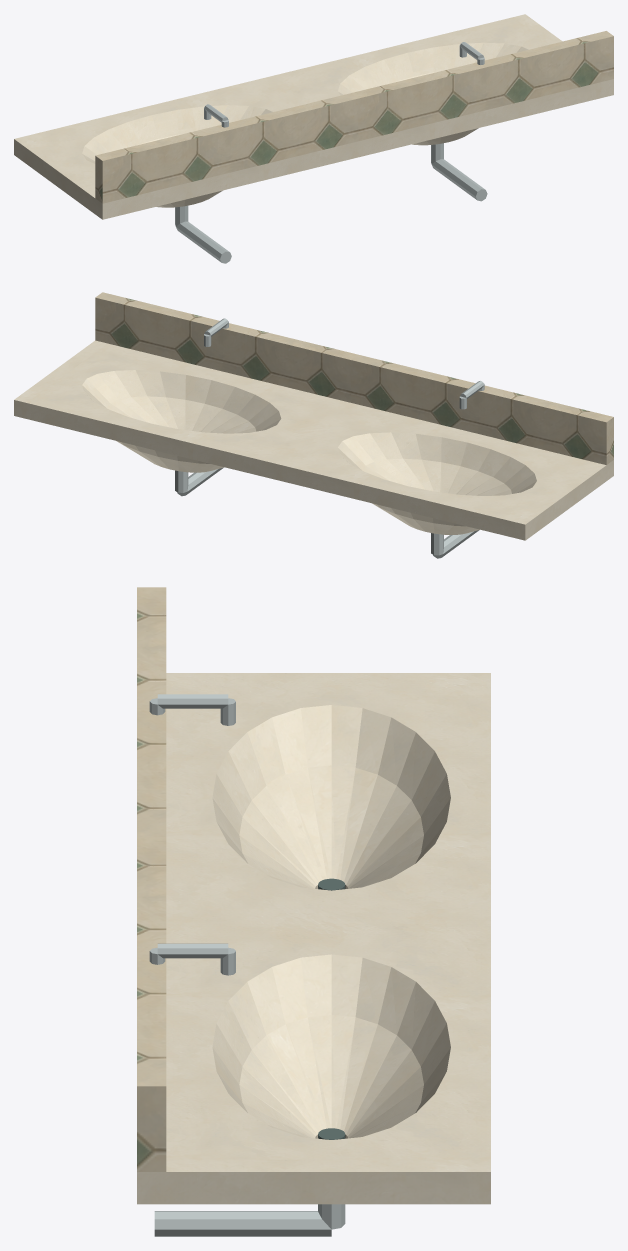
The model's file is bath-sink-double.gltf.
3 renders of one model, top to bottom at view 1: azimuth 30°, elevation 25°; view 2: azimuth 150°, elevation 25°; view 3: azimuth 270°, elevation 25°, orthographic. The views are drawn at different scales.
Parts seen in each view (by area): view 1: fixture-tile, counter-ceramic, fixture-ceramic, structure-metal, fittings-metal; view 2: counter-ceramic, fixture-tile, fixture-ceramic, structure-metal, fittings-metal; view 3: counter-ceramic, fixture-ceramic, fixture-tile, structure-metal, fittings-metal.
Boxes of the visible parts, x1,y1,x2,y2 form: fixture-tile: (95, 31, 613, 203); counter-ceramic: (14, 14, 613, 219); fixture-ceramic: (74, 39, 533, 207); structure-metal: (175, 143, 487, 263); fittings-metal: (204, 42, 484, 127); counter-ceramic: (14, 340, 613, 540); fixture-tile: (95, 292, 613, 464); fixture-ceramic: (74, 366, 544, 534); structure-metal: (175, 467, 479, 558); fittings-metal: (204, 318, 484, 409); counter-ceramic: (137, 673, 490, 1204); fixture-ceramic: (196, 698, 467, 1146); fixture-tile: (137, 587, 166, 1171); structure-metal: (154, 1204, 345, 1236); fittings-metal: (149, 694, 235, 975).
Bounding box in the file's own units: 2 × 0.546 × 0.6.
Materials: 4 (2 with a texture image).
